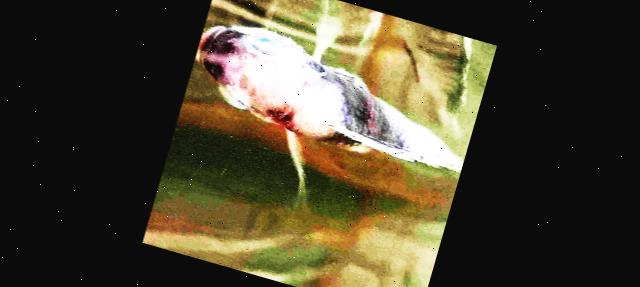Columnaris Disease: (198, 0, 464, 200), (389, 14, 471, 140)
